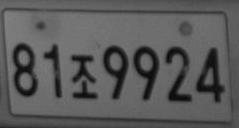1: (43, 44, 68, 98)
2: (164, 45, 192, 102)
4: (195, 47, 225, 102)
8: (12, 42, 38, 97)
9: (102, 44, 129, 99), (133, 45, 160, 100)
조: (70, 54, 98, 99)
